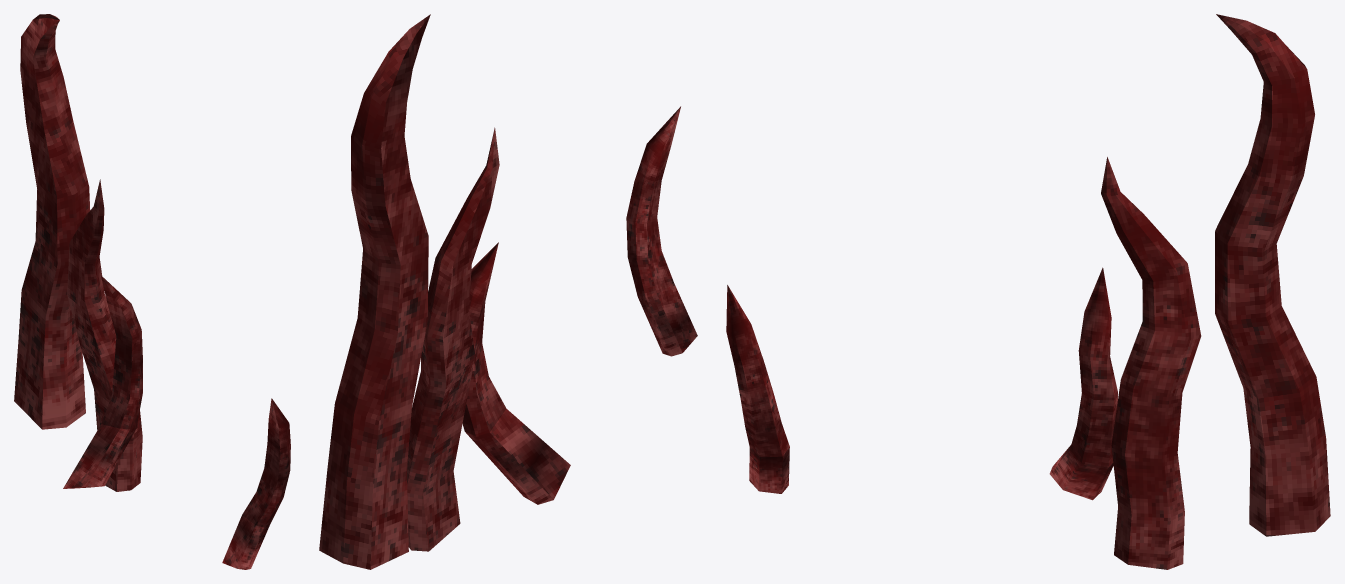
Rendered from tendril_grp_1.fbx.
The picture shows the model from 3 angles, left to right: view 1: azimuth 30°, elevation 25°; view 2: azimuth 150°, elevation 25°; view 3: azimuth 270°, elevation 25°; orthographic projection. The views are drawn at different scales.
Visible parts, largest first — view 1: tendril_4, tendril_3, tendril_2, tendril_1; view 2: tendril_4, tendril_3, tendril_2, tendril_1; view 3: tendril_4, tendril_3, tendril_2, tendril_1.
Part boxes in pixels (x1,y1,x2,y2): tendril_4: (14, 14, 90, 429); tendril_3: (67, 179, 142, 491); tendril_2: (63, 275, 142, 488); tendril_1: (222, 398, 290, 569); tendril_4: (319, 14, 430, 569); tendril_3: (407, 127, 499, 551); tendril_2: (462, 242, 570, 504); tendril_1: (626, 106, 697, 356); tendril_4: (1215, 14, 1330, 536); tendril_3: (1101, 157, 1201, 569); tendril_2: (1049, 267, 1117, 500); tendril_1: (726, 285, 789, 493).
Bounding box in the file's own units: 6.38 × 28.47 × 29.25.
